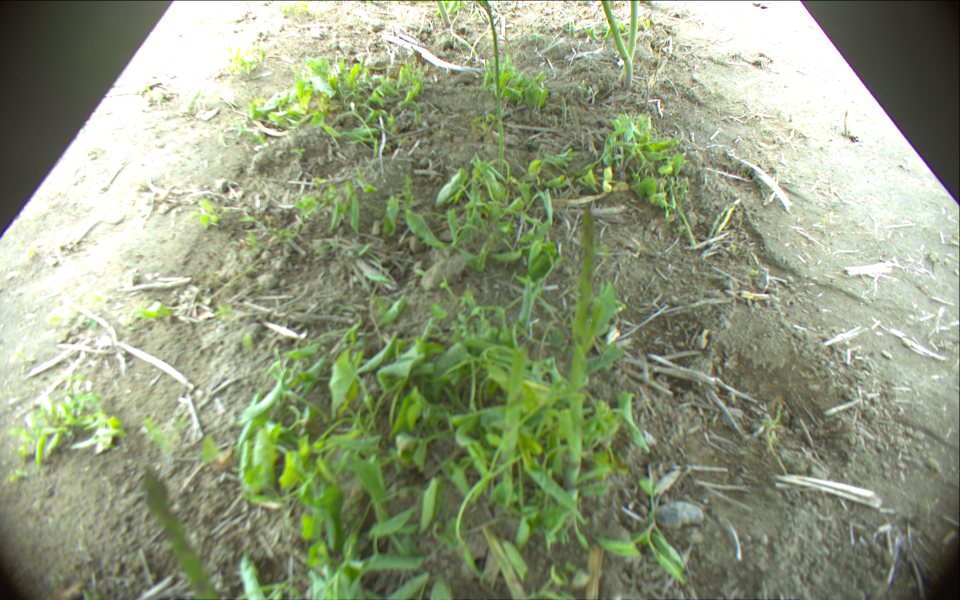aspa: (141, 471, 213, 600), (566, 208, 597, 503), (468, 1, 504, 178), (494, 345, 528, 477), (600, 1, 633, 89), (617, 1, 637, 83), (435, 1, 452, 27)
